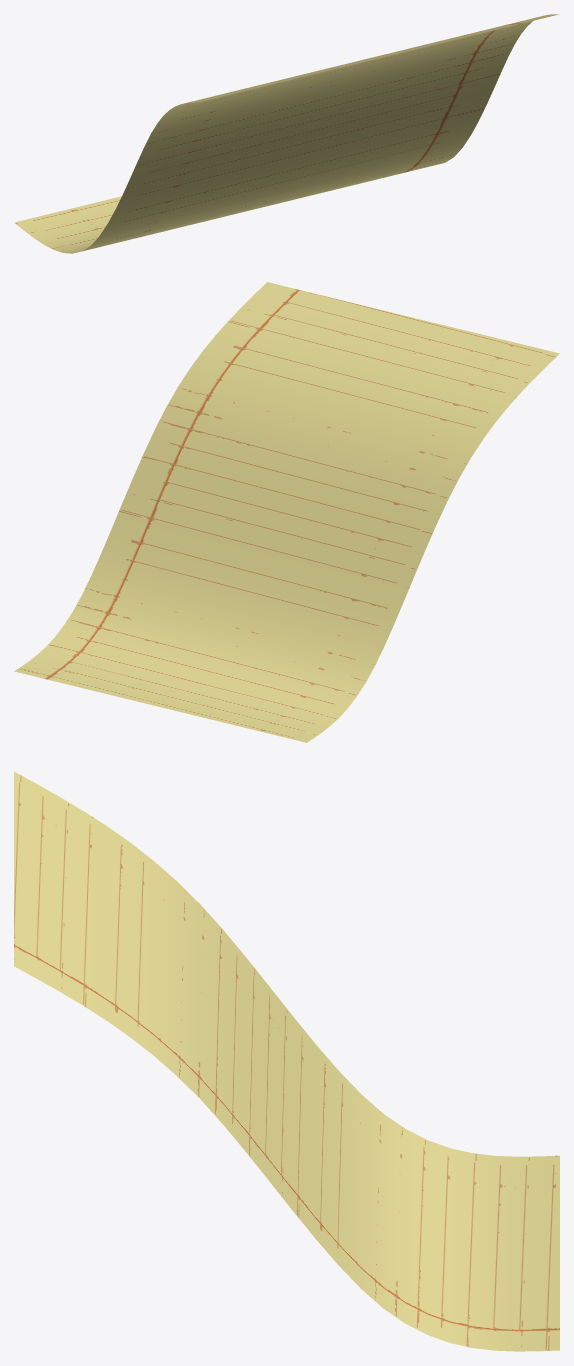
Rendered from paper.obj.
3 views of the same model, one above another, from view 1: azimuth 30°, elevation 25°; view 2: azimuth 150°, elevation 25°; view 3: azimuth 270°, elevation 25° (orthographic). The views are drawn at different scales.
Visible parts, largest first — view 1: paper; view 2: paper; view 3: paper.
Boxes of the visible parts, x1=… form: paper: x1=14, y1=14, x2=558, y2=253; paper: x1=14, y1=282, x2=559, y2=742; paper: x1=14, y1=771, x2=559, y2=1351.
Bounding box in the file's own units: 6.44 × 4.56 × 6.45.
